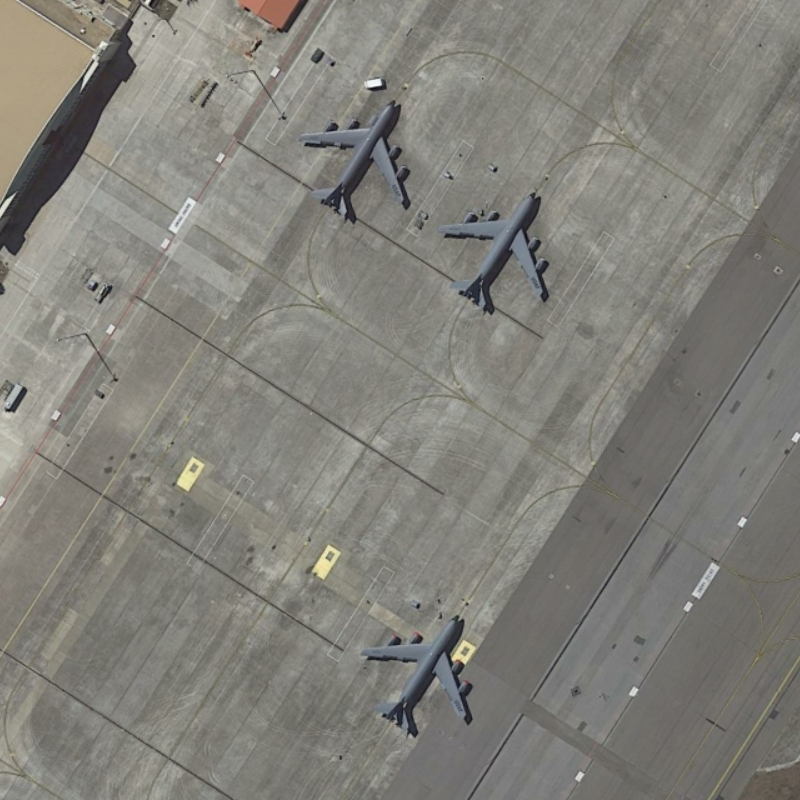A14: (353, 605, 480, 741), (431, 185, 557, 318), (297, 93, 417, 223)
